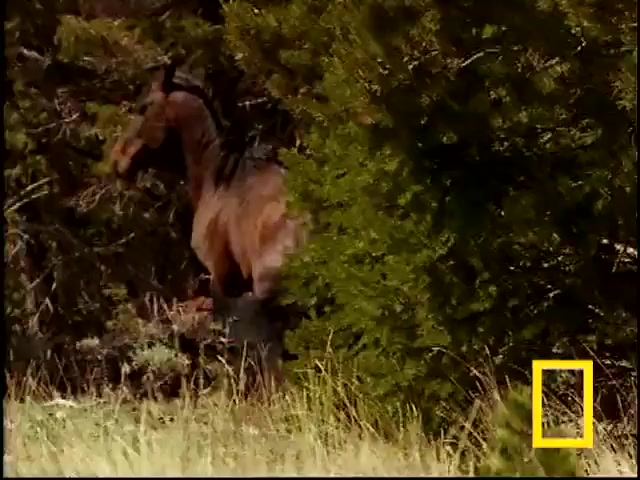horse: (115, 65, 334, 390)
